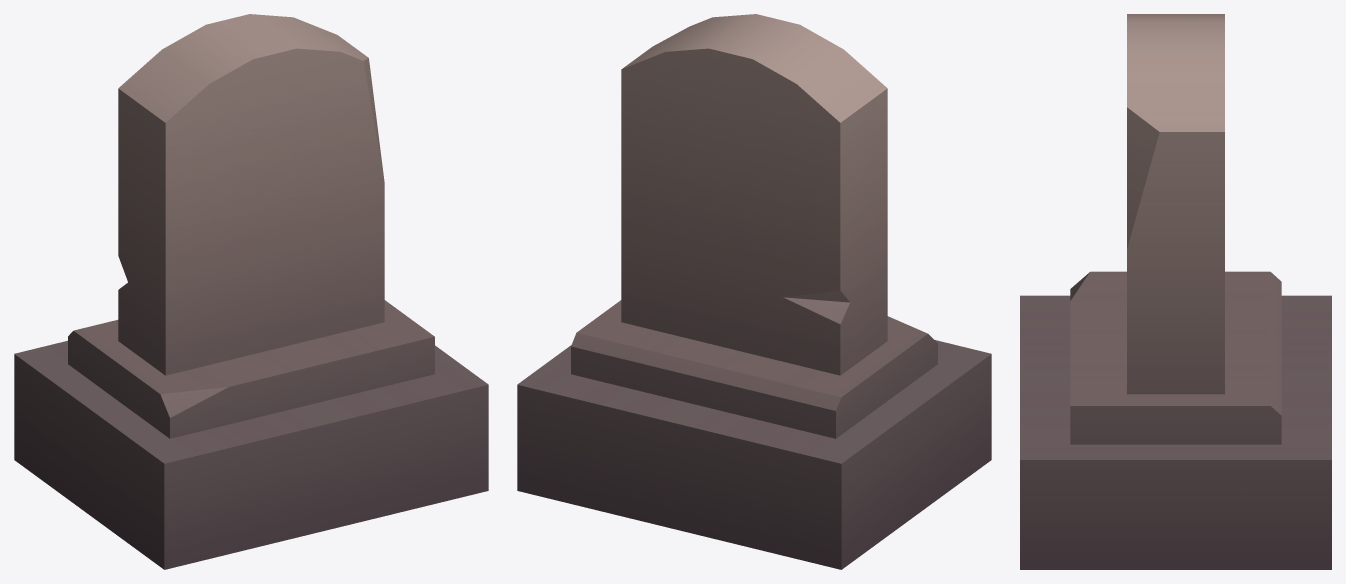
File: tombstone1Weathered.glb
3 views of the same model, side by side, from view 1: azimuth 30°, elevation 25°; view 2: azimuth 150°, elevation 25°; view 3: azimuth 270°, elevation 25° (orthographic). The views are drawn at different scales.
Parts seen in each view (by area): view 1: tombstone1Weathered; view 2: tombstone1Weathered; view 3: tombstone1Weathered.
Boxes of the visible parts, left/top/right/bottom form: tombstone1Weathered: left=14, top=14, right=488, bottom=569; tombstone1Weathered: left=517, top=14, right=991, bottom=569; tombstone1Weathered: left=1020, top=14, right=1331, bottom=569.
Bounding box in the file's own units: 0.6652 × 0.8598 × 0.5339.
1 material, 1 textured.
